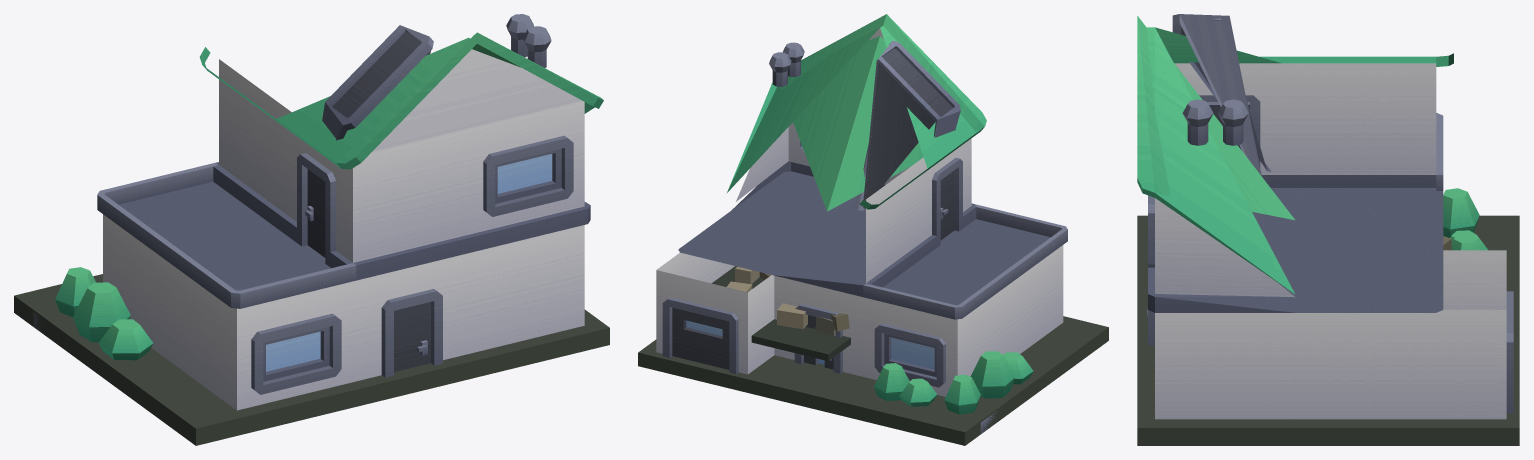
File: building-type-u-ruined.glb
3 views of the same model, side by side, from view 1: azimuth 30°, elevation 25°; view 2: azimuth 150°, elevation 25°; view 3: azimuth 270°, elevation 25° (orthographic). The views are drawn at different scales.
Visible parts, largest first — view 1: building-type-u-ruined; view 2: building-type-u-ruined; view 3: building-type-u-ruined.
Boxes of the visible parts, box(x1,y1,x2,y2) form: building-type-u-ruined: box(14, 14, 609, 445); building-type-u-ruined: box(638, 14, 1108, 445); building-type-u-ruined: box(1137, 14, 1519, 445).
Size of the model in its own units: 1.43 by 1.14 by 1.09.
6 materials, 1 textured.
